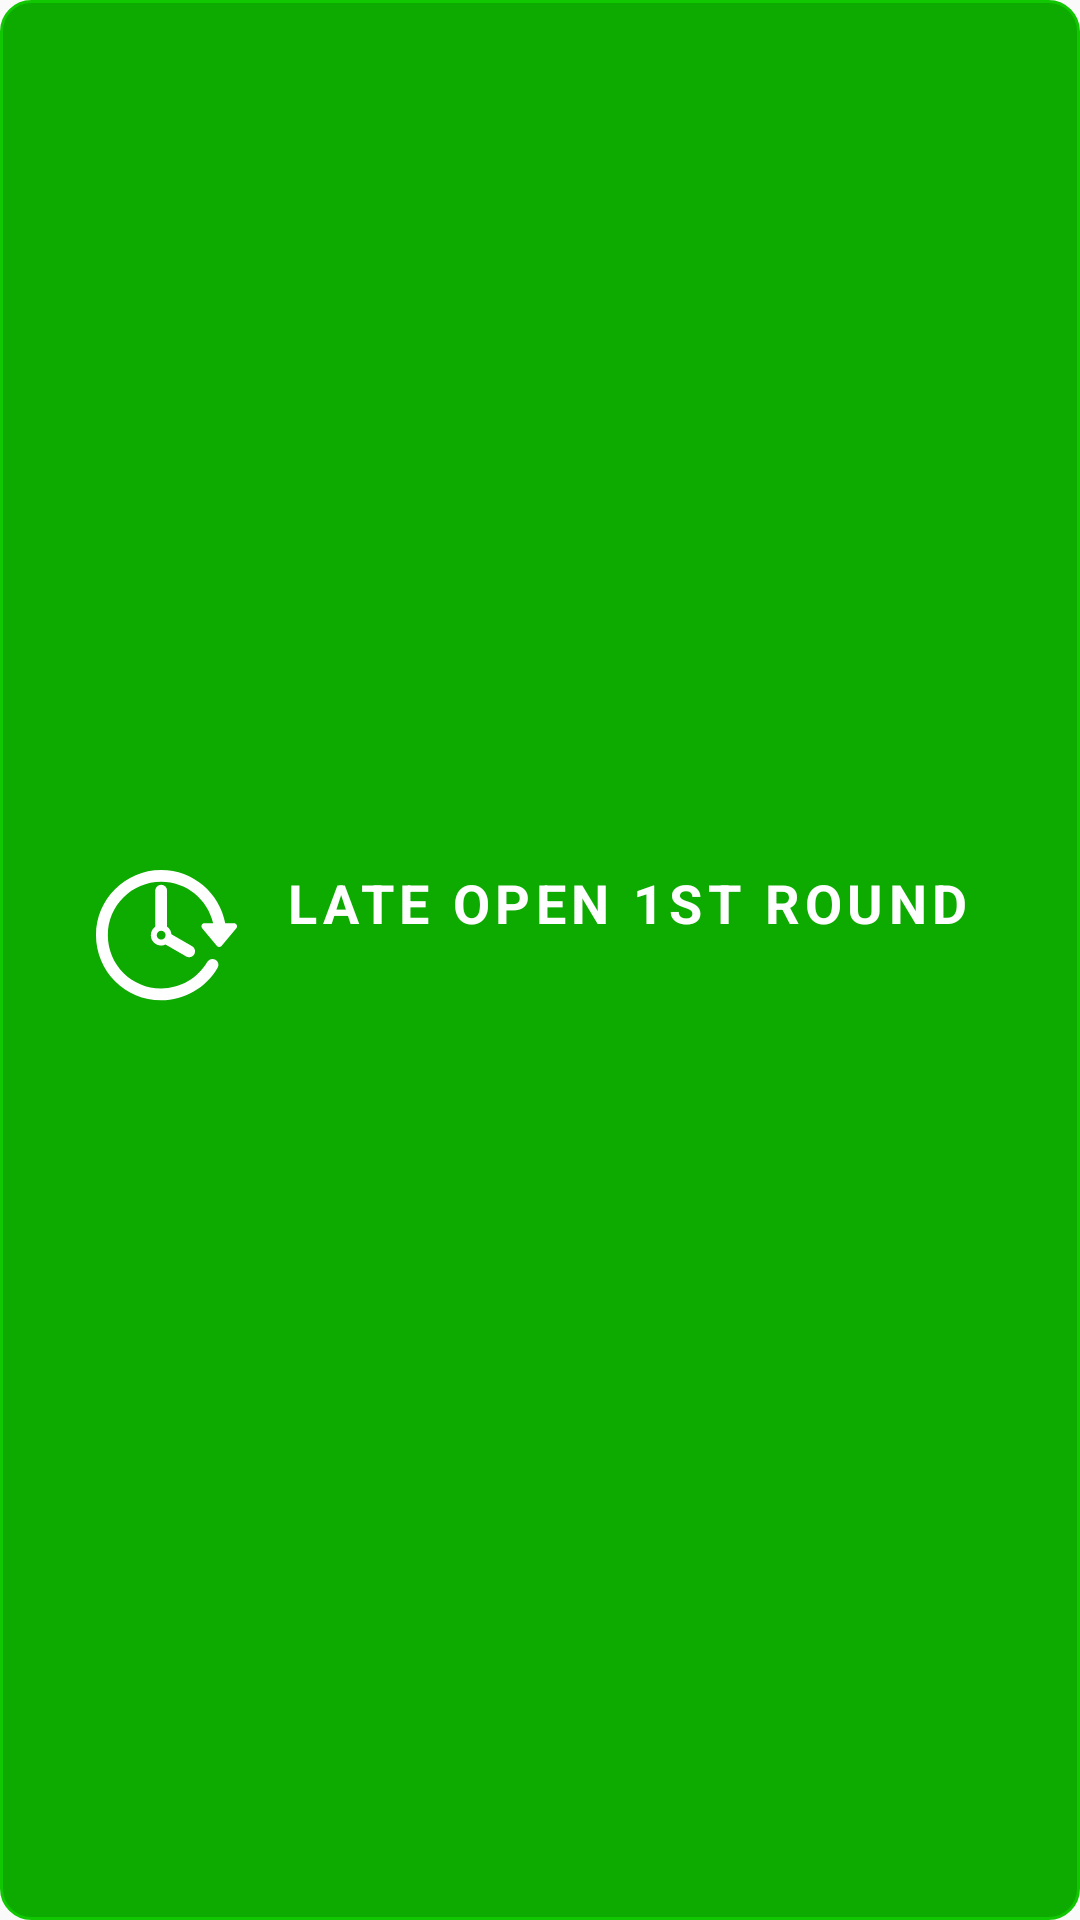

Icon bounding boxes for this 1080px x 1920px phone screenshot, format (x1, y1, x2, y2):
clock: (96, 870, 237, 1001)
